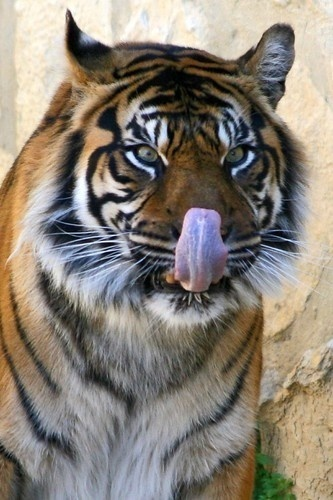tigre: (2, 7, 314, 500)
